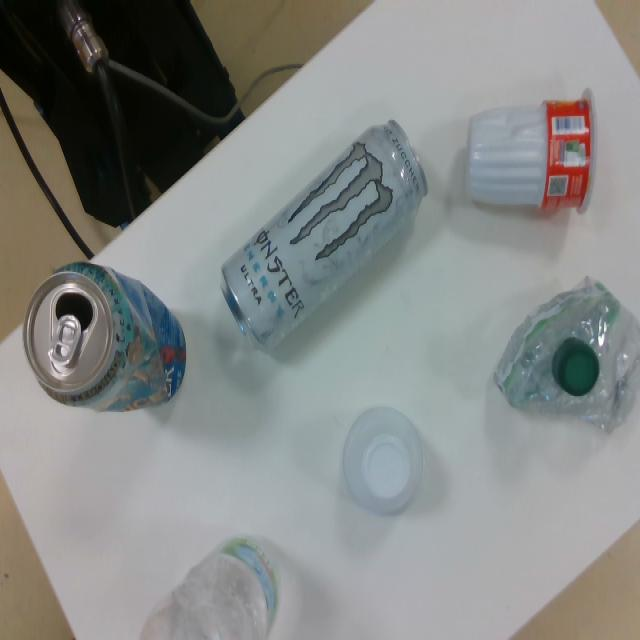aluminum: (221, 115, 433, 356), (19, 254, 190, 417)
plastic: (490, 270, 640, 441), (460, 85, 600, 216), (135, 534, 285, 640), (334, 400, 427, 517)
